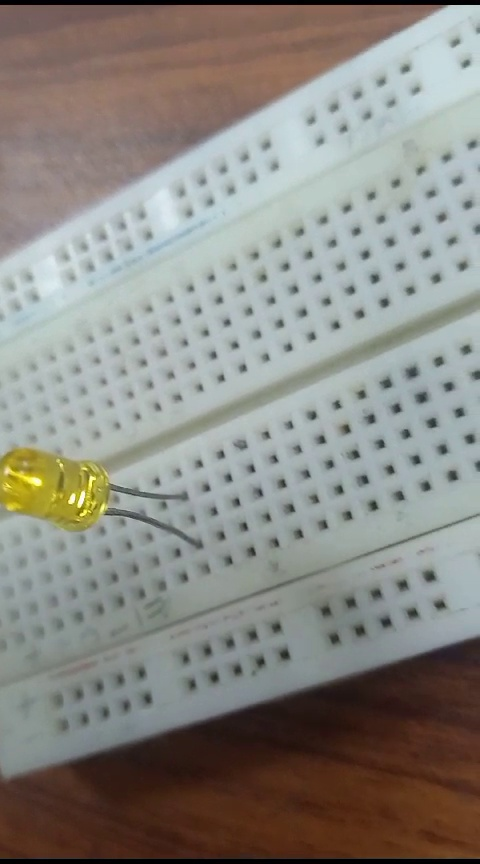LED: (1, 439, 210, 571)
